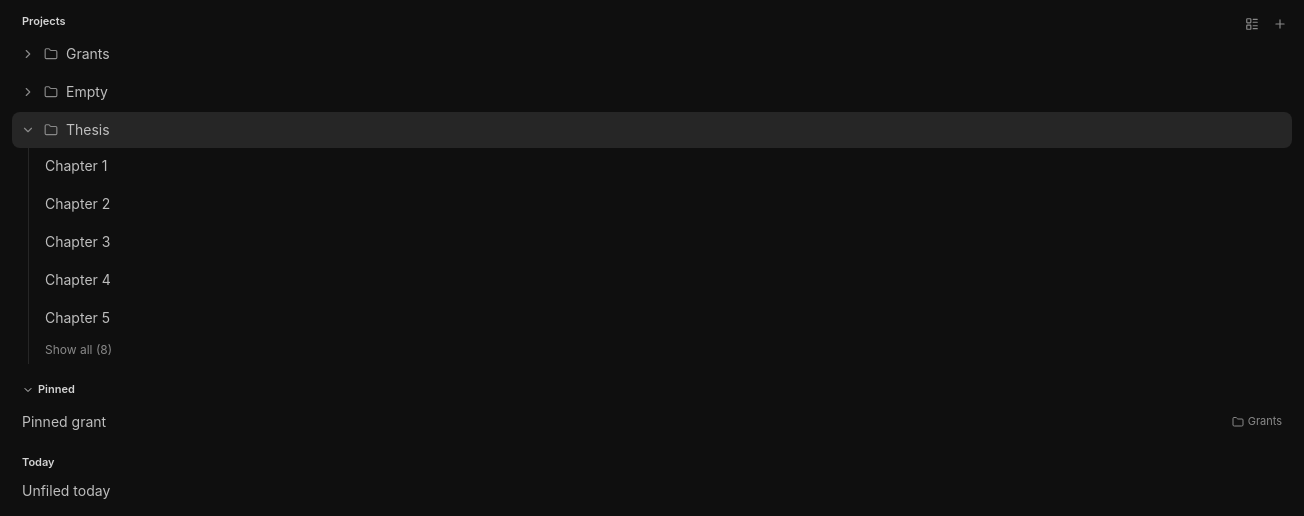
Scenario: sidebar projects › opens the project of the project page without remembering it
The image size is (1304, 516).
Click the button named "Conversations in Thesis" at (28, 130), box 16,118 -> 40,142
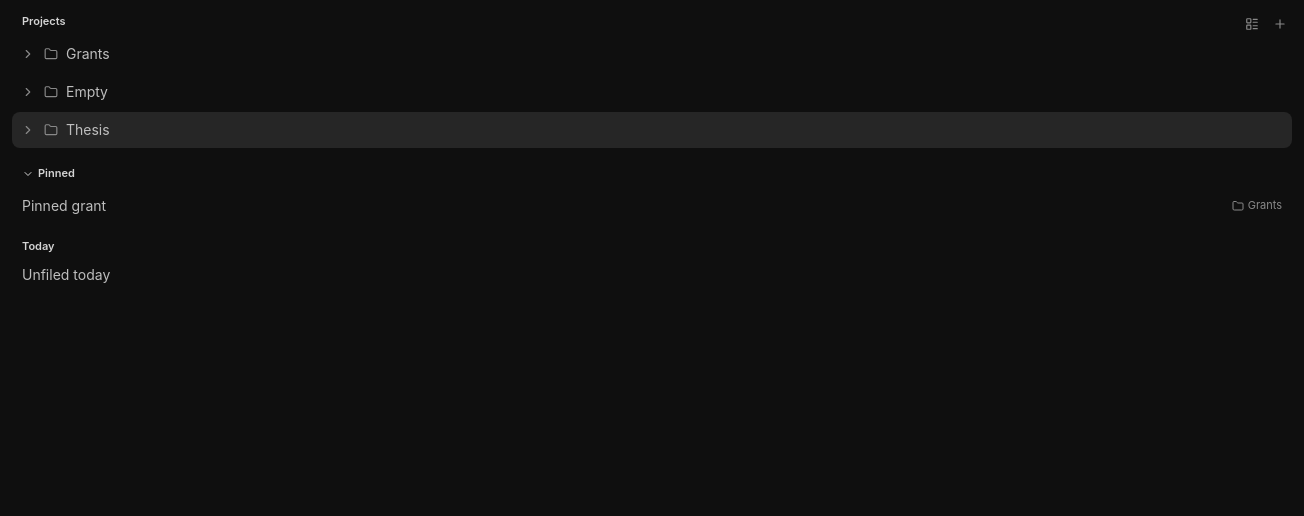
Now the button named "Conversations in Thesis" is collapsed
Click the button named "Conversations in Thesis" at (28, 130), box 16,118 -> 40,142
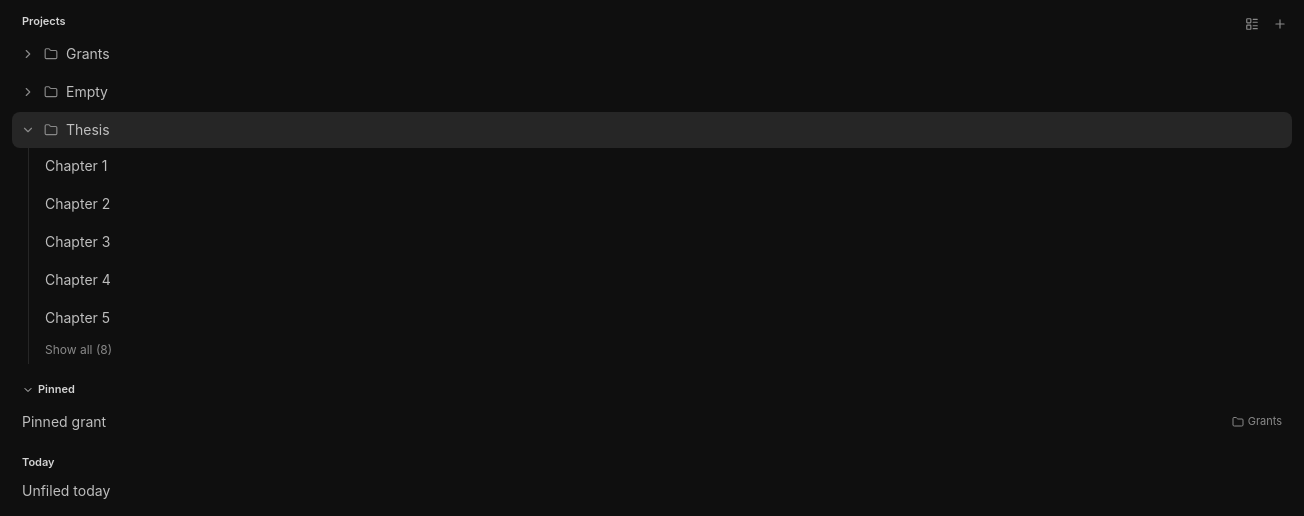
Now the button named "Conversations in Thesis" is expanded, box 16,118 -> 40,142
